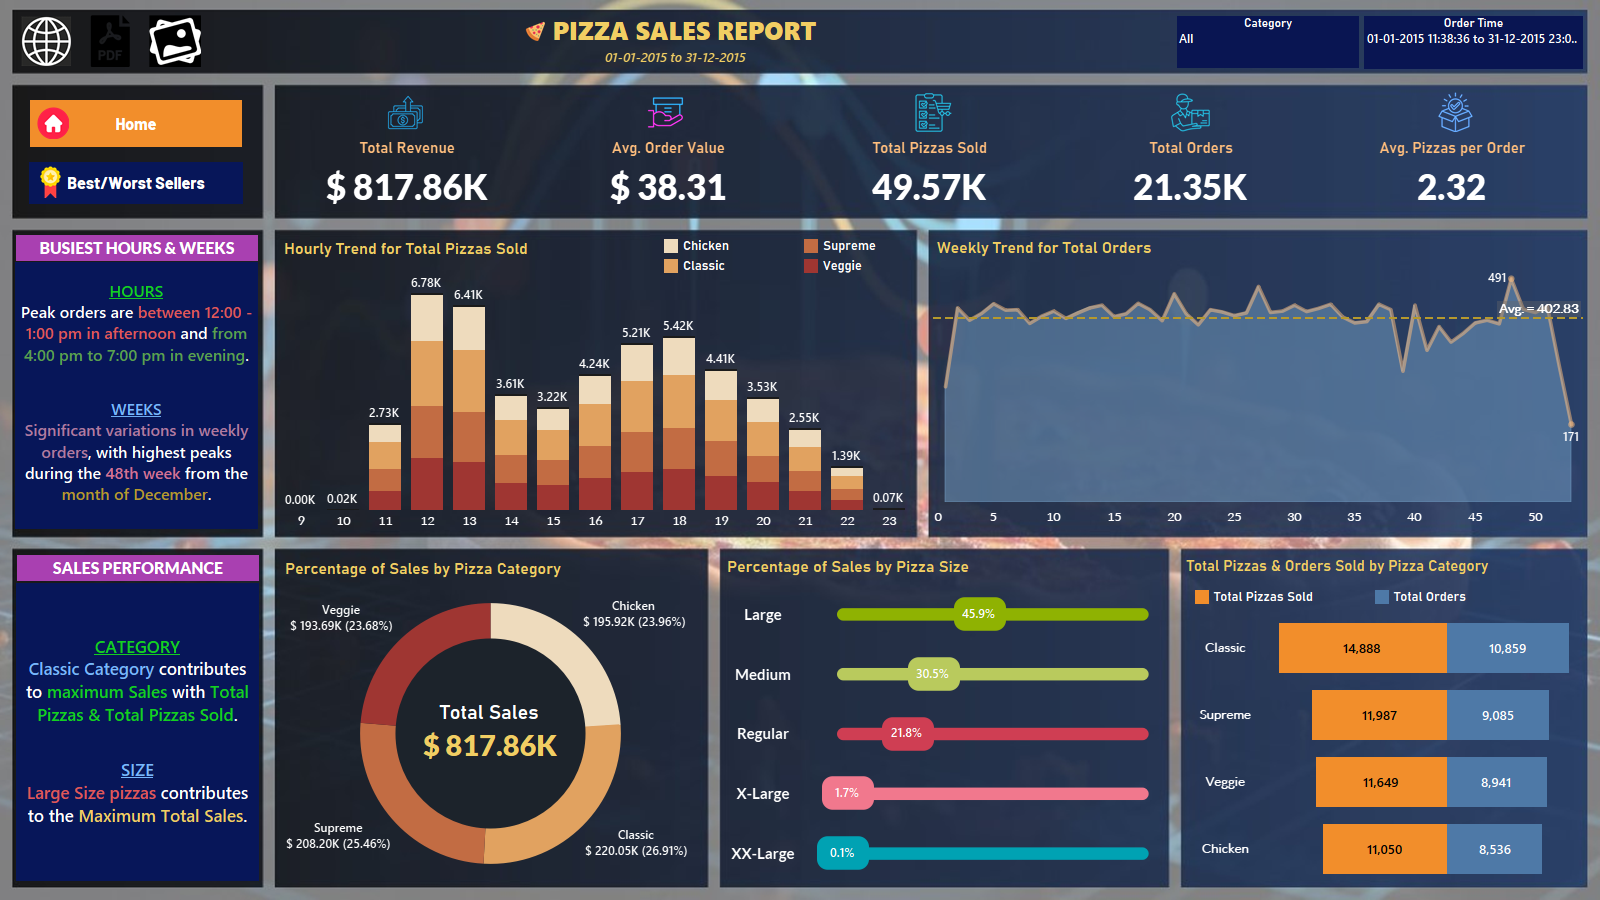

The page's visual inventory and layout, read from the dashboard file:
{"tool":"tableau","page":{"name":"Home","canvas":[1600,900],"ordinal":1},"visuals":[{"type":"image","param":"Image/Pizza Tableau 1.jpg","box":[0,0,1600,900]},{"type":"dashboard-object","box":[83,15,54,52]},{"type":"dashboard-object","box":[148,15,54,52]},{"type":"text","box":[550,15,269,30]},{"type":"image","param":"Image/webLogo-2.png","box":[19,16,55,50]},{"type":"filter","title":"Hourly Trend for Total Pizzas Sold","param":"[federated.1c7dijz1407x9t15o18tn0ti6zbz].[none:category:nk]","box":[1177,16,182,52]},{"type":"filter","title":"Hourly Trend for Total Pizzas Sold","param":"[federated.1c7dijz1407x9t15o18tn0ti6zbz].[none:order_time:qk]","box":[1364,16,219,53]},{"type":"image","param":"Image/pizza-slice.png","box":[524,21,23,20]},{"type":"worksheet","title":"Date Range","mark":"Automatic","box":[580,47,192,20]},{"type":"image","param":"Image/profit-growth.png","box":[385,92,40,40]},{"type":"image","param":"Image/shipping-box.png","box":[645,92,40,40]},{"type":"image","param":"Image/order-delivery.png","box":[913,92,40,40]},{"type":"image","param":"Image/delivery-man.png","box":[1170,92,40,40]},{"type":"image","param":"Image/order (1).png","box":[1435,92,40,40]},{"type":"dashboard-object","box":[30,100,212,47]},{"type":"image","param":"Image/home (1) 1.png","box":[37,107,32,33]},{"type":"worksheet","title":"KPI Banner","mark":"Automatic","box":[277,139,1306,76]},{"type":"dashboard-object","box":[29,162,214,42]},{"type":"image","param":"Image/choice 1.png","box":[34,166,32,33]},{"type":"worksheet","title":"Weekly Trend for Total Orders","mark":"Area","rows":["Calculation_653584907689078786","Calculation_653584907689078786"],"cols":["order_time"],"box":[933,234,650,298]},{"type":"text","box":[16,235,242,26]},{"type":"worksheet","title":"Hourly Trend for Total Pizzas Sold","mark":"Bar","rows":["Calculation_653584907688972289","Calculation_653584907688972289"],"cols":["order_time"],"box":[280,235,630,295]},{"type":"legend","title":"Hourly Trend for Total Pizzas Sold","param":"[federated.1c7dijz1407x9t15o18tn0ti6zbz].[none:category:nk]","box":[661,236,290,41]},{"type":"text","box":[15,262,243,267]},{"type":"text","box":[1184,552,307,30]},{"type":"worksheet","title":"Percentage of Sales by Pizza Size","mark":"Line","rows":["size"],"box":[723,553,441,330]},{"type":"text","box":[17,555,242,26]},{"type":"worksheet","title":"Percentage of Sales by Pizza Category","mark":"Pie","rows":["Calculation_709035478663094275","Calculation_709035478663114757"],"box":[281,555,419,326]},{"type":"text","box":[16,583,243,298]},{"type":"legend","title":"Total Pizzas & Orders Sold by Pizza Category","param":"[federated.1c7dijz1407x9t15o18tn0ti6zbz].[:Measure Names]","box":[1192,587,381,20]},{"type":"worksheet","title":"Total Pizzas & Orders Sold by Pizza Category","mark":"Automatic","rows":["category"],"box":[1185,614,398,268]}]}

Visuals, with their boxes on the page's 1600x900 design canvas (x1, y1, x2, y2). These are canvas units, not pixel positions in the 1600x900 screenshot, which may show the page scaled, cropped or inside an application window:
image: detection(0, 0, 1600, 900)
dashboard-object: detection(83, 15, 137, 67)
dashboard-object: detection(148, 15, 202, 67)
text: detection(550, 15, 819, 45)
image: detection(19, 16, 74, 66)
"Hourly Trend for Total Pizzas Sold" filter: detection(1177, 16, 1359, 68)
"Hourly Trend for Total Pizzas Sold" filter: detection(1364, 16, 1583, 69)
image: detection(524, 21, 547, 41)
"Date Range" worksheet: detection(580, 47, 772, 67)
image: detection(385, 92, 425, 132)
image: detection(645, 92, 685, 132)
image: detection(913, 92, 953, 132)
image: detection(1170, 92, 1210, 132)
image: detection(1435, 92, 1475, 132)
dashboard-object: detection(30, 100, 242, 147)
image: detection(37, 107, 69, 140)
"KPI Banner" worksheet: detection(277, 139, 1583, 215)
dashboard-object: detection(29, 162, 243, 204)
image: detection(34, 166, 66, 199)
"Weekly Trend for Total Orders" worksheet (Area marks): detection(933, 234, 1583, 532)
text: detection(16, 235, 258, 261)
"Hourly Trend for Total Pizzas Sold" worksheet (Bar marks): detection(280, 235, 910, 530)
"Hourly Trend for Total Pizzas Sold" legend: detection(661, 236, 951, 277)
text: detection(15, 262, 258, 529)
text: detection(1184, 552, 1491, 582)
"Percentage of Sales by Pizza Size" worksheet (Line marks): detection(723, 553, 1164, 883)
text: detection(17, 555, 259, 581)
"Percentage of Sales by Pizza Category" worksheet (Pie marks): detection(281, 555, 700, 881)
text: detection(16, 583, 259, 881)
"Total Pizzas & Orders Sold by Pizza Category" legend: detection(1192, 587, 1573, 607)
"Total Pizzas & Orders Sold by Pizza Category" worksheet: detection(1185, 614, 1583, 882)
